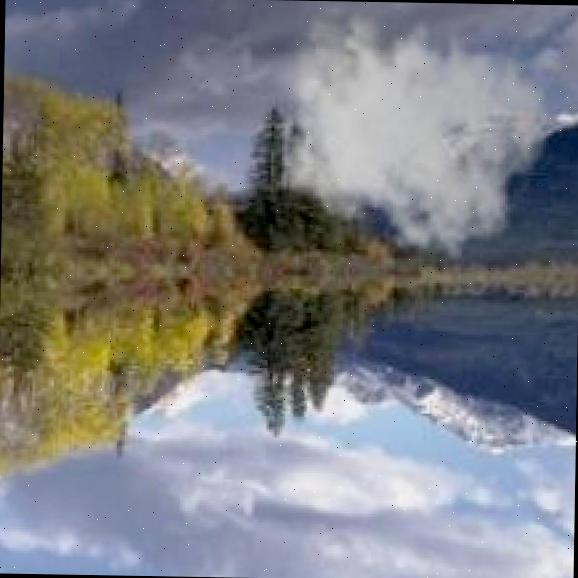smoke: (272, 0, 551, 262)
